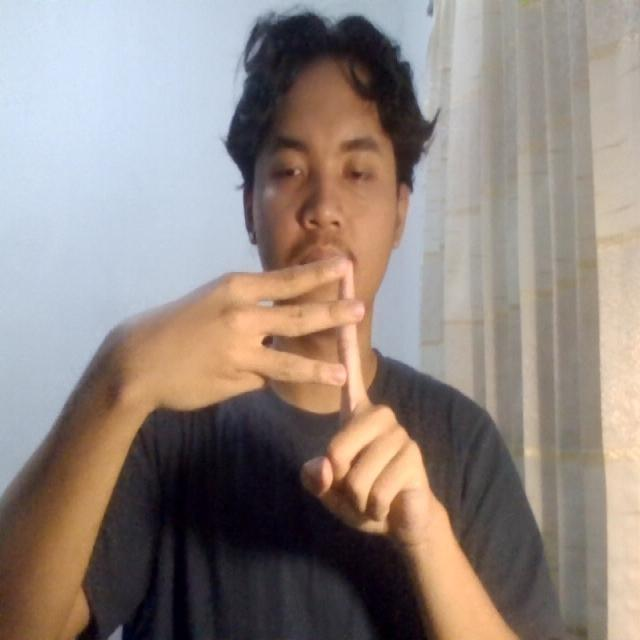B: (149, 238, 448, 566)
